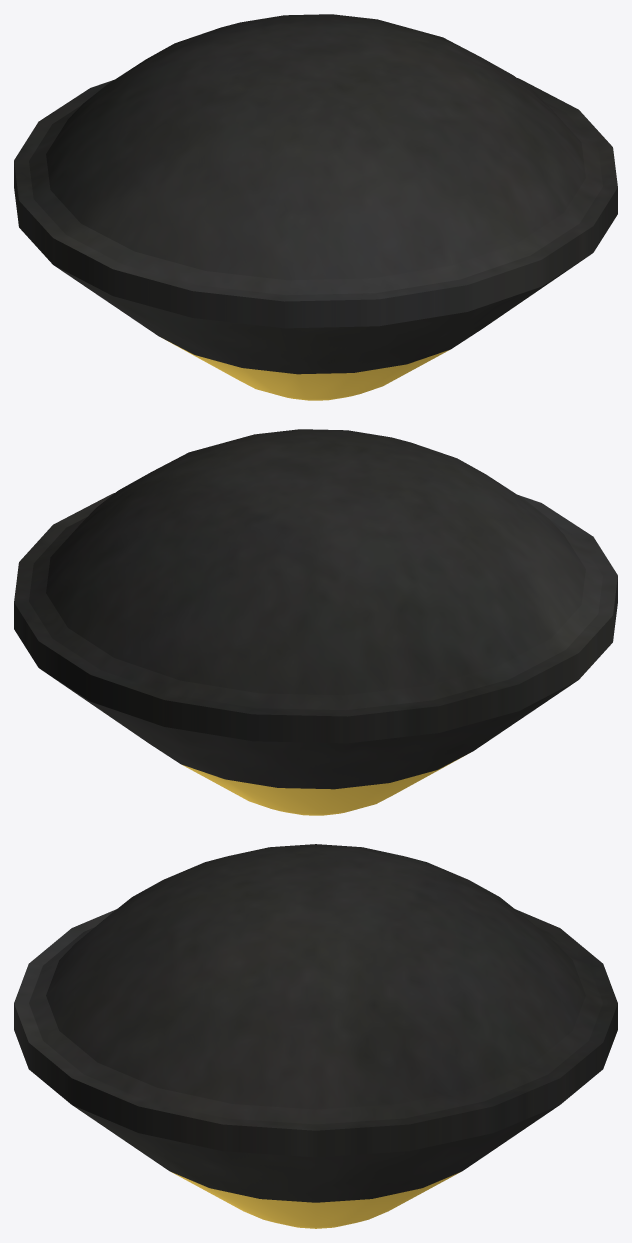
The model's file is galileo-probe.glb.
3 views of the same model, one above another, from view 1: azimuth 30°, elevation 25°; view 2: azimuth 150°, elevation 25°; view 3: azimuth 270°, elevation 25° (orthographic).
Parts seen in each view (by area): view 1: Probe; view 2: Probe; view 3: Probe.
Boxes of the visible parts, left/top/right/bottom form: Probe: left=14, top=14, right=617, bottom=400; Probe: left=14, top=429, right=617, bottom=815; Probe: left=14, top=844, right=617, bottom=1228.
Bounding box in the file's own units: 1.45 × 0.8842 × 1.45.
2 materials, 1 textured.
